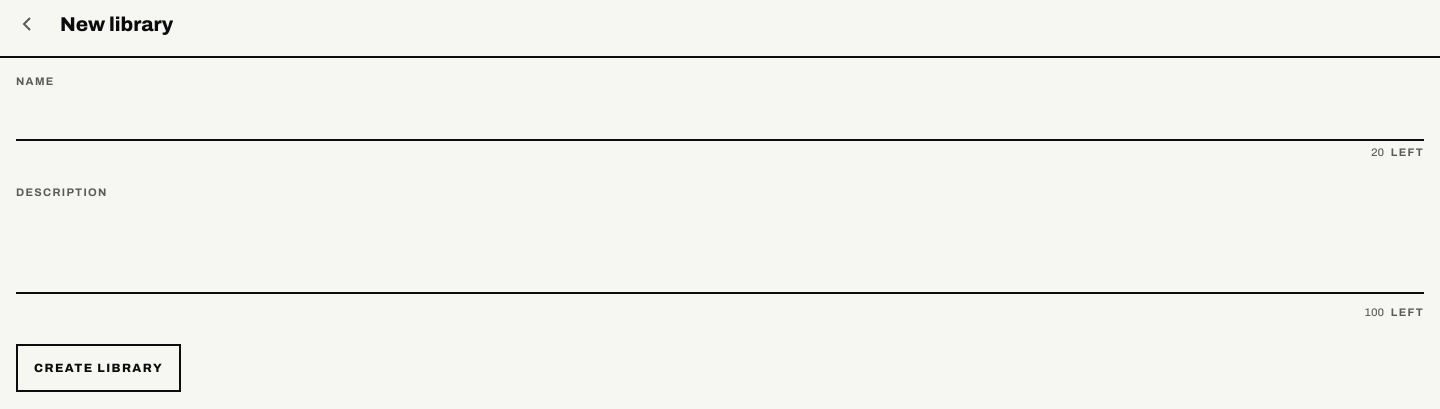
Test case: NewLibrary › counts the characters left, because 20 is short enough to hit
Type "Fiction" into the field labelled "Name" at (720, 117), box [16, 93, 1424, 141]
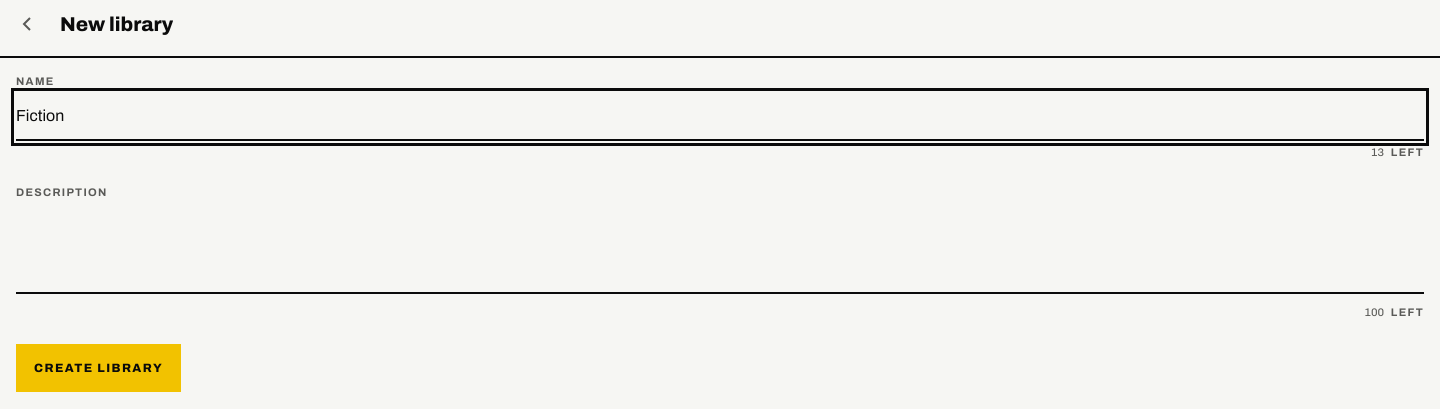
Expected: the text "13" is shown, [1371, 146, 1384, 159]
